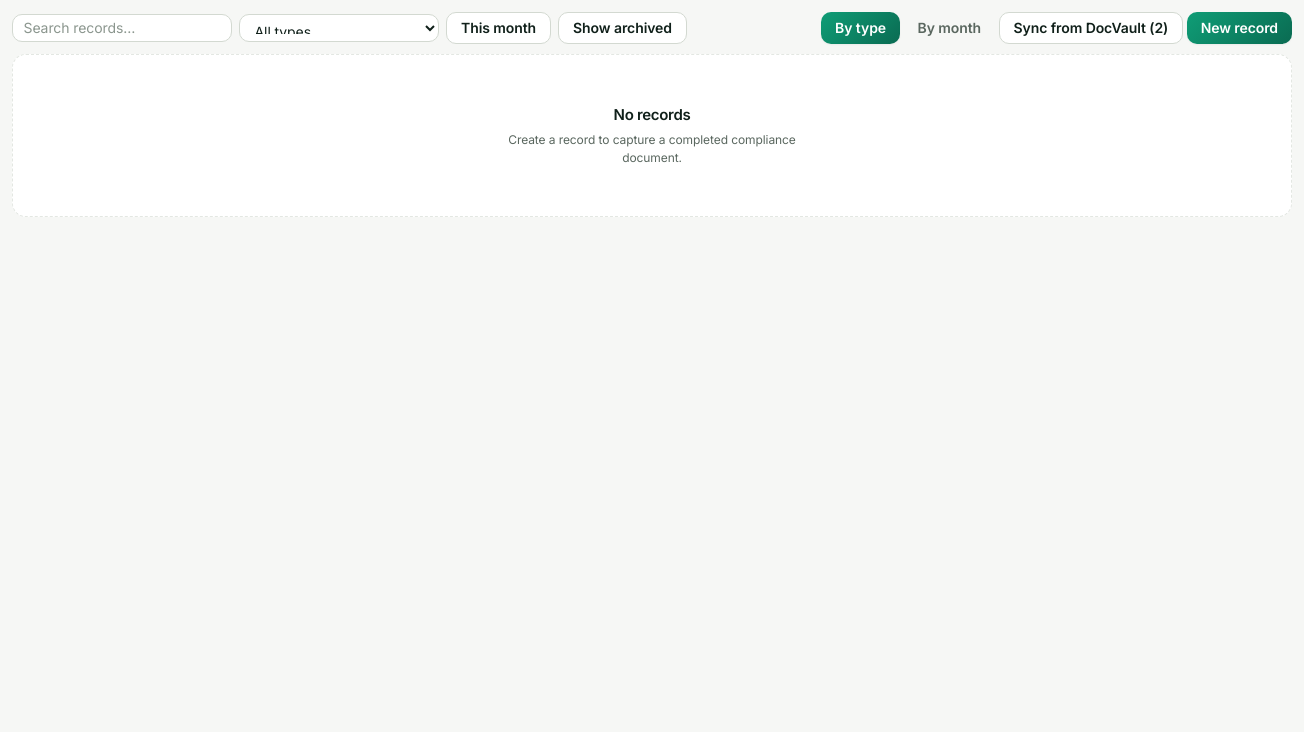
RecordsTab › shows the unsynced count and imports on click
Click the button "Sync from DocVault (2)" at (1091, 28), box 998,12 -> 1183,44
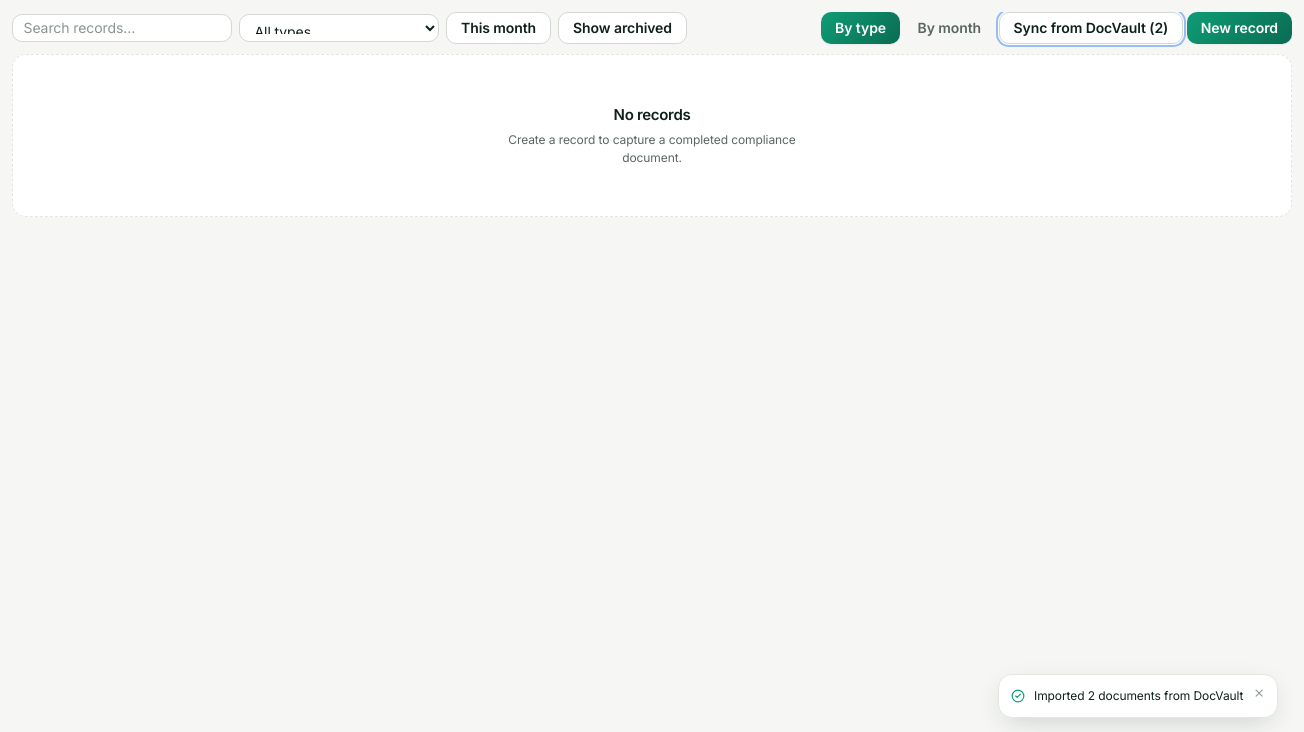
Result: the text "Imported 2 documents from DocVault" is shown at 1034,687 -> 1244,705
